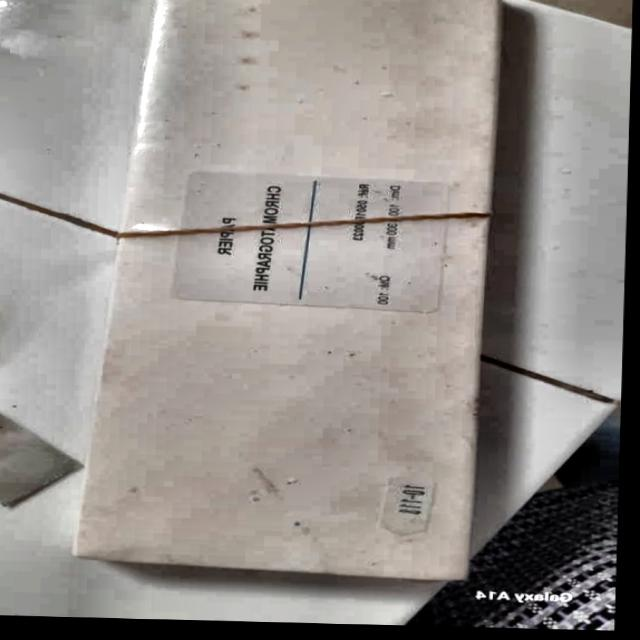Paper Chromatography: (100, 0, 491, 578)
